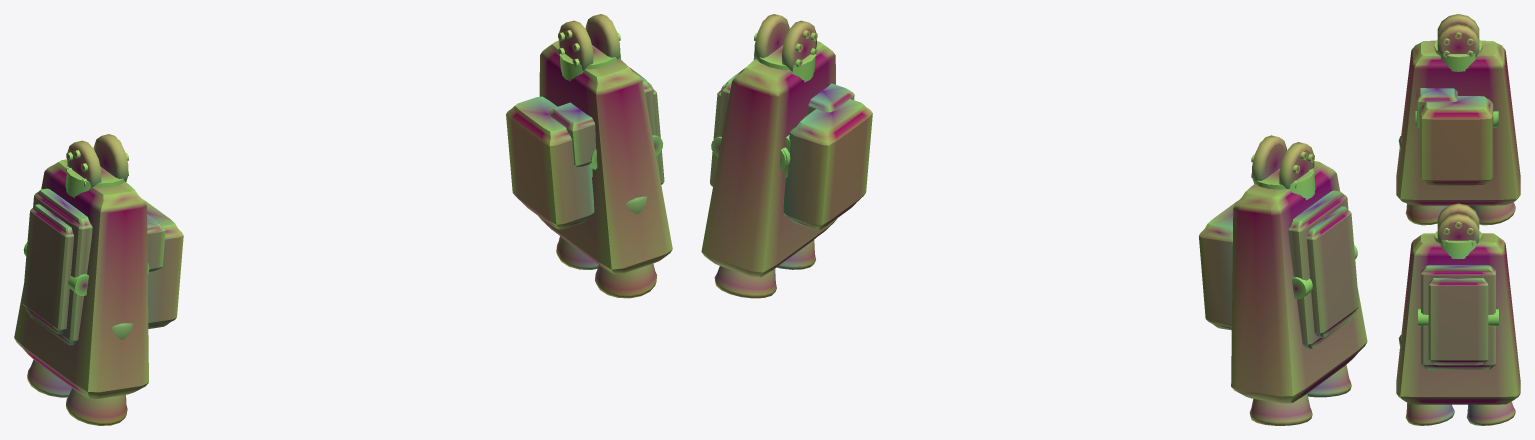
File: llm_gen_leg_thrusters_050_f96481.glb
The picture shows the model from 3 angles, left to right: view 1: azimuth 30°, elevation 25°; view 2: azimuth 150°, elevation 25°; view 3: azimuth 270°, elevation 25°; orthographic projection. The views are drawn at different scales.
Parts seen in each view (by area): view 1: flare_cowling_main_0_cobalt_anodized_l, flare_cowling_main_0_cobalt_anodized_r, adapter_calf_clamp_r, flare_louver_gold_3_psycho_emerald_l, adapter_calf_clamp_l, adapter_sub_louver_frame_dark_1_adapter_dark_l, servo_5_servo_accent_r, servo_5_servo_accent_l, adapter_leg_knee_mount_dark_8_adapter_dark_r, flare_bell_fwd_6_vernier_bell_vernier_l, flare_bell_fwd_6_vernier_bell_vernier_r, flare_bell_aft_7_vernier_bell_vernier_l (+4 smaller); view 2: flare_cowling_main_0_cobalt_anodized_l, flare_cowling_main_0_cobalt_anodized_r, adapter_calf_clamp_r, flare_louver_gold_3_psycho_emerald_l, adapter_calf_clamp_l, adapter_sub_louver_frame_dark_1_adapter_dark_l, servo_5_servo_accent_r, servo_5_servo_accent_l, flare_bell_aft_7_vernier_bell_vernier_l, flare_bell_aft_7_vernier_bell_vernier_r, adapter_leg_knee_mount_dark_8_adapter_dark_r, adapter_sub_top_cap_dark_4_adapter_dark_l (+3 smaller); view 3: flare_cowling_main_0_cobalt_anodized_l, flare_cowling_main_0_cobalt_anodized_r, adapter_calf_clamp_l, flare_louver_gold_3_psycho_emerald_r, adapter_sub_louver_frame_dark_1_adapter_dark_r, servo_5_servo_accent_l, servo_5_servo_accent_r, flare_bell_aft_7_vernier_bell_vernier_r, flare_bell_fwd_6_vernier_bell_vernier_r, adapter_leg_knee_mount_dark_8_adapter_dark_l, flare_bell_aft_7_vernier_bell_vernier_l, flare_bell_fwd_6_vernier_bell_vernier_l (+5 smaller).
Boxes of the visible parts, x1,y1,x2,y2 form: flare_cowling_main_0_cobalt_anodized_l: (14,159,148,398); flare_cowling_main_0_cobalt_anodized_r: (538,40,672,274); adapter_calf_clamp_r: (506,96,594,229); flare_louver_gold_3_psycho_emerald_l: (22,204,73,334); adapter_calf_clamp_l: (143,199,183,328); adapter_sub_louver_frame_dark_1_adapter_dark_l: (25,188,92,345); servo_5_servo_accent_r: (558,14,619,70); servo_5_servo_accent_l: (67,134,128,187); adapter_leg_knee_mount_dark_8_adapter_dark_r: (548,102,595,167); flare_bell_fwd_6_vernier_bell_vernier_l: (66,388,127,425); flare_bell_fwd_6_vernier_bell_vernier_r: (595,263,656,298); flare_bell_aft_7_vernier_bell_vernier_l: (27,359,71,397); flare_cowling_main_0_cobalt_anodized_l: (1231,161,1367,403); flare_cowling_main_0_cobalt_anodized_r: (701,41,837,277); adapter_calf_clamp_r: (783,99,872,229); flare_louver_gold_3_psycho_emerald_l: (1307,206,1358,337); adapter_calf_clamp_l: (1199,200,1238,330); adapter_sub_louver_frame_dark_1_adapter_dark_l: (1288,190,1356,348); servo_5_servo_accent_r: (754,14,816,71); servo_5_servo_accent_l: (1252,135,1314,189); flare_bell_aft_7_vernier_bell_vernier_l: (1249,393,1312,425); flare_bell_aft_7_vernier_bell_vernier_r: (714,266,776,298); adapter_leg_knee_mount_dark_8_adapter_dark_r: (808,83,854,114); adapter_sub_top_cap_dark_4_adapter_dark_l: (1255,168,1315,200); flare_cowling_main_0_cobalt_anodized_l: (1396,40,1520,205); flare_cowling_main_0_cobalt_anodized_r: (1396,233,1520,404); adapter_calf_clamp_l: (1419,96,1493,185); flare_louver_gold_3_psycho_emerald_r: (1428,278,1488,365); adapter_sub_louver_frame_dark_1_adapter_dark_r: (1421,265,1495,369); servo_5_servo_accent_l: (1437,14,1479,57); servo_5_servo_accent_r: (1437,203,1479,243); flare_bell_aft_7_vernier_bell_vernier_r: (1466,402,1515,425); flare_bell_fwd_6_vernier_bell_vernier_r: (1405,403,1454,425); adapter_leg_knee_mount_dark_8_adapter_dark_l: (1416,88,1457,129); flare_bell_aft_7_vernier_bell_vernier_l: (1468,202,1515,225); flare_bell_fwd_6_vernier_bell_vernier_l: (1405,203,1448,225).
Bounding box in the file's own units: 82.74 × 33.52 × 18.55.
